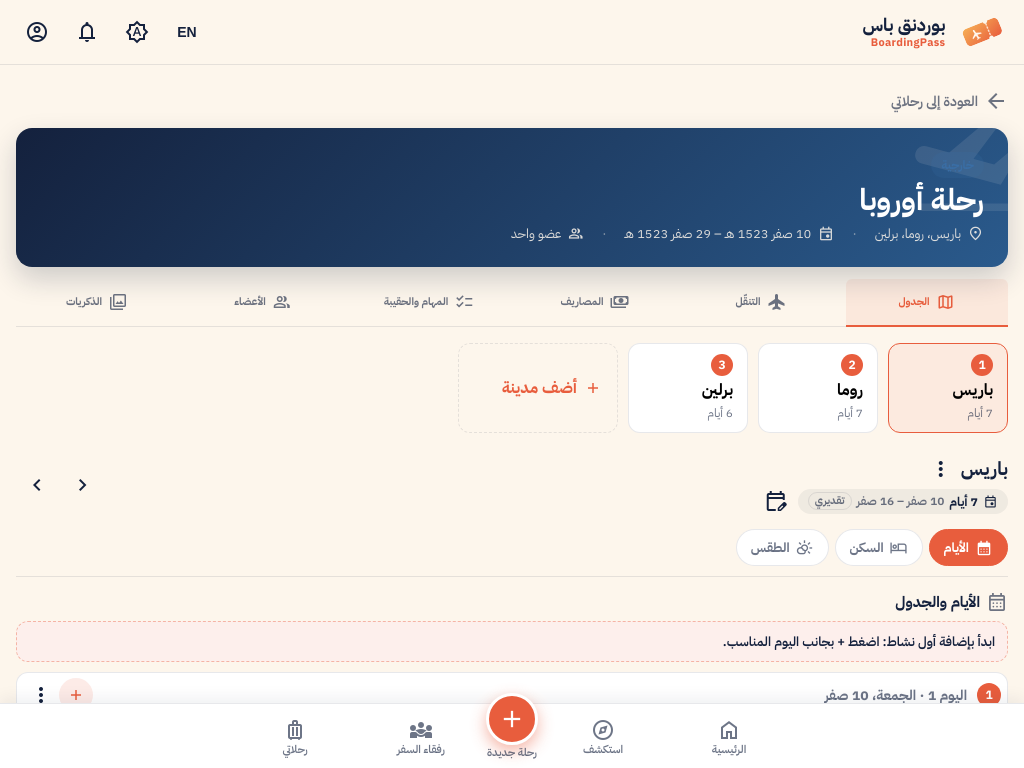
US-006 Itinerary dashboard › renders the timeline from the trip cities and switches active city
Expected: the heading "باريس" is shown, [961,455,1008,483]
What coordinates should you click on to do the following:
click the tab "2 روما 7 أيام"
I would click on:
 (818, 388)
Its box is [758,343,878,433].
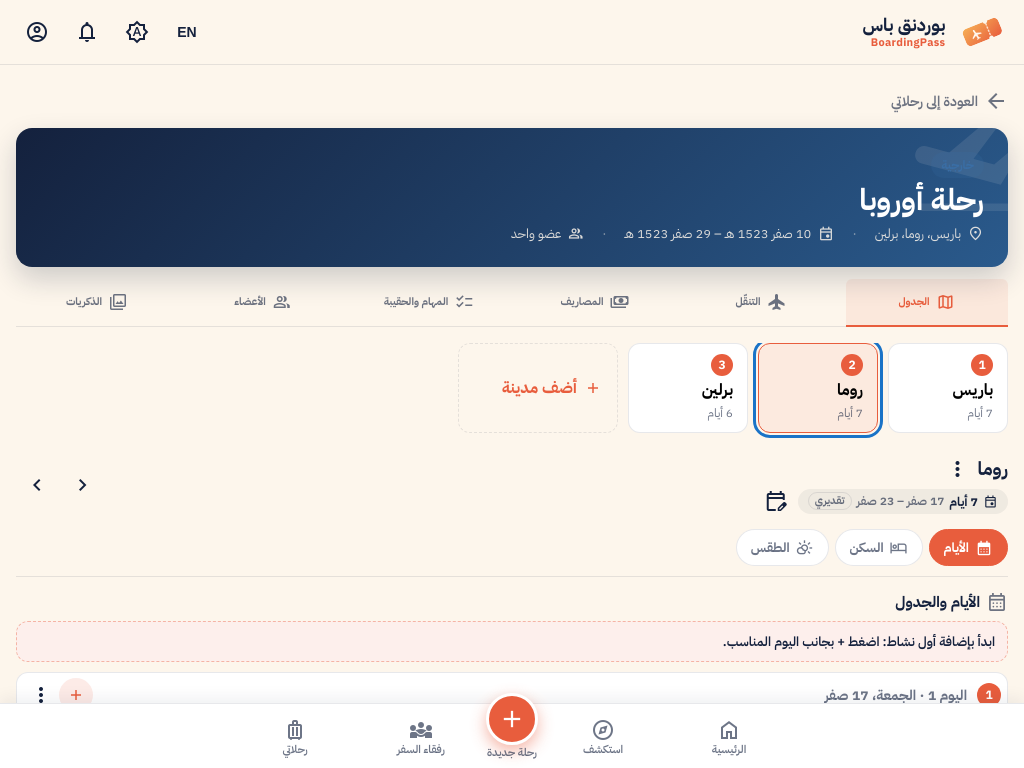
Now the heading "روما" is shown, box [978,455,1008,483]
